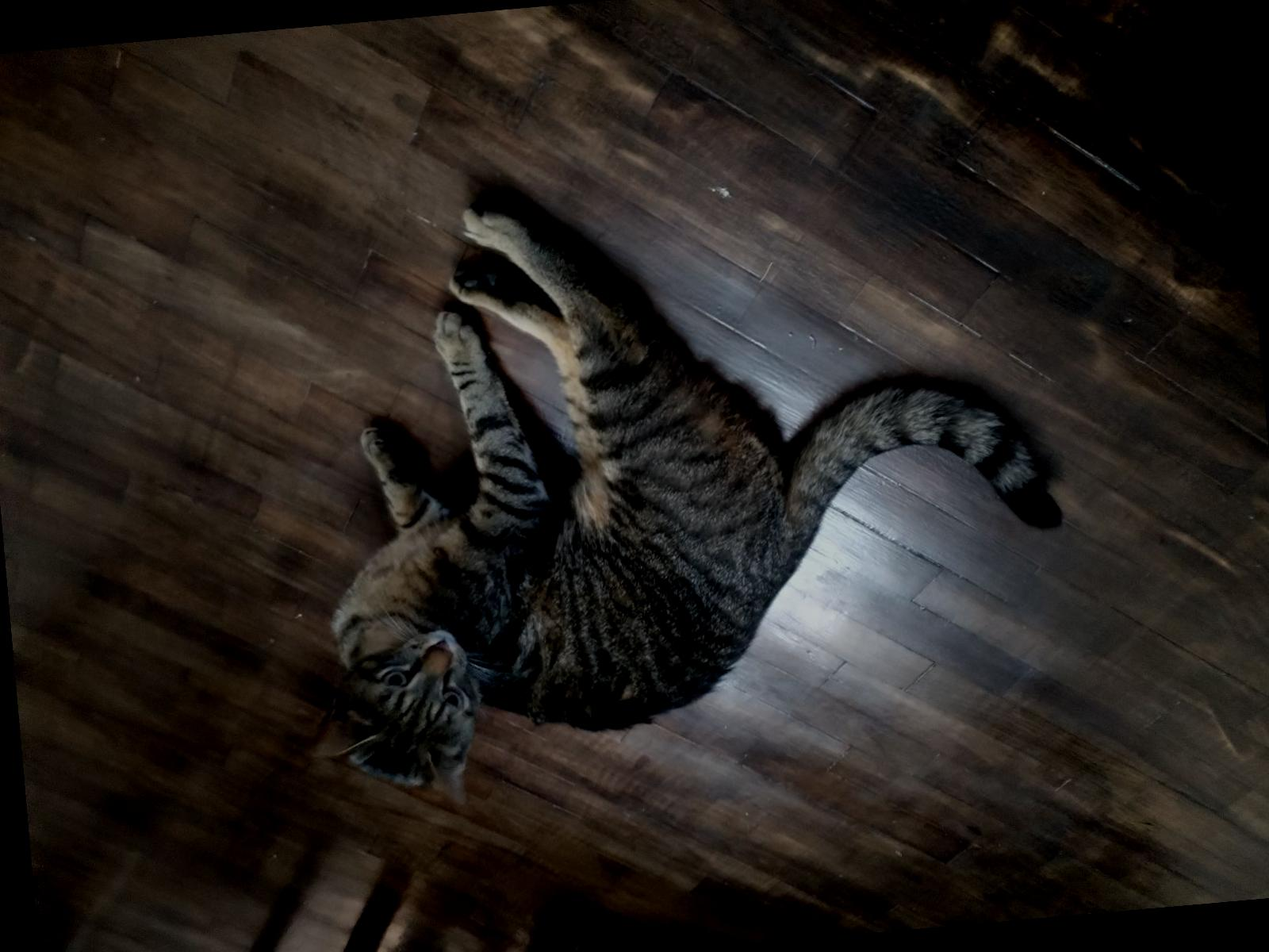macka: (265, 155, 1085, 824)
